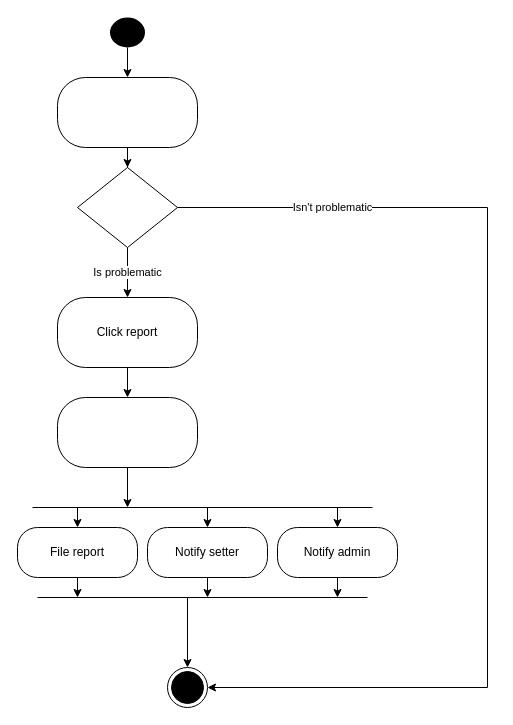
The diagram is 513 pixels wide and 725 high, and some of its shapes have lost their labels. Here are the shapes that lost their labels. From the top down, the box of each, then its label:
(56, 76, 198, 148): Go to some problem
(56, 396, 198, 468): Give reason
